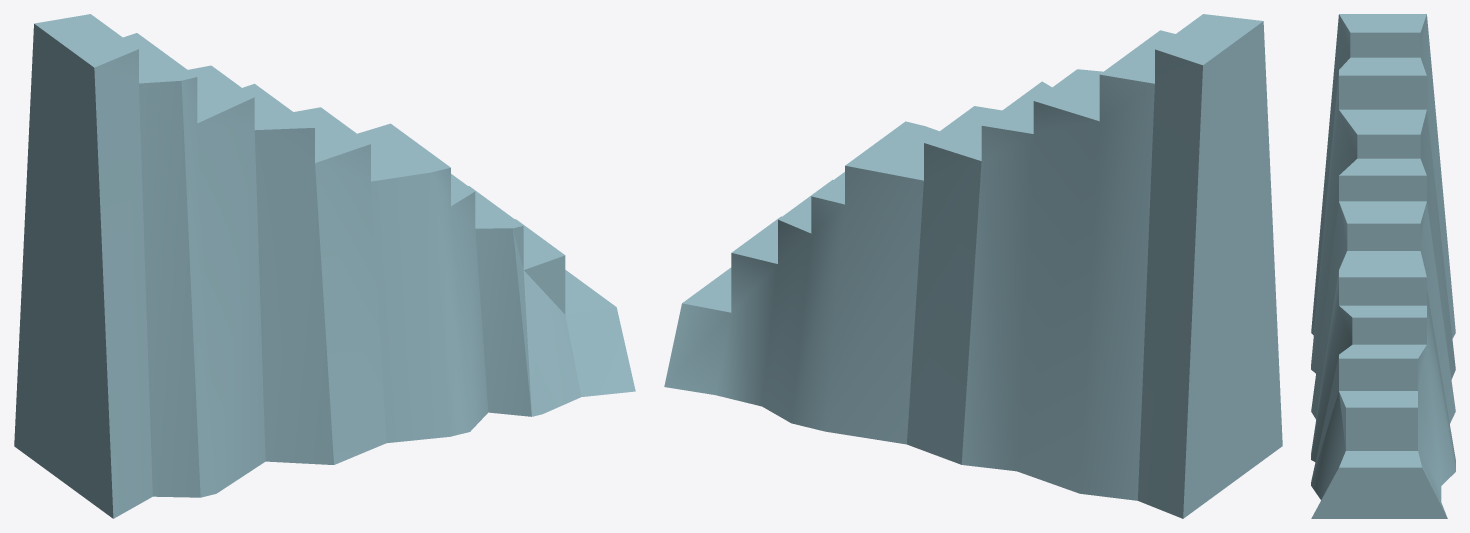
Rendered from Terrain_Tile_Ice_Stairs_03.fbx.
3 views of the same model, side by side, from view 1: azimuth 30°, elevation 25°; view 2: azimuth 150°, elevation 25°; view 3: azimuth 270°, elevation 25° (orthographic). The views are drawn at different scales.
Parts seen in each view (by area): view 1: Terrain_Tile_Ice_Stairs_03; view 2: Terrain_Tile_Ice_Stairs_03; view 3: Terrain_Tile_Ice_Stairs_03.
Part boxes in pixels (x1,y1,x2,y2): Terrain_Tile_Ice_Stairs_03: (14,14,635,518); Terrain_Tile_Ice_Stairs_03: (664,14,1282,518); Terrain_Tile_Ice_Stairs_03: (1311,14,1455,518).
Size of the model in its own units: 157 by 126 by 51.8.
